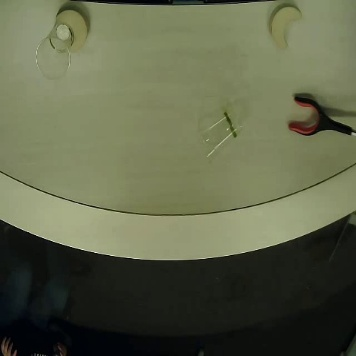empty_cup: (199, 108, 243, 163), (34, 23, 74, 79)
puck: (269, 5, 301, 49), (55, 10, 88, 52)
